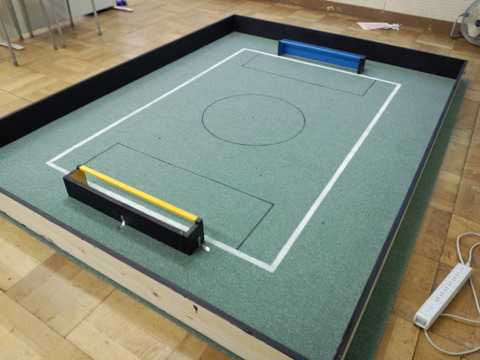Goal: (276, 37, 368, 76)
